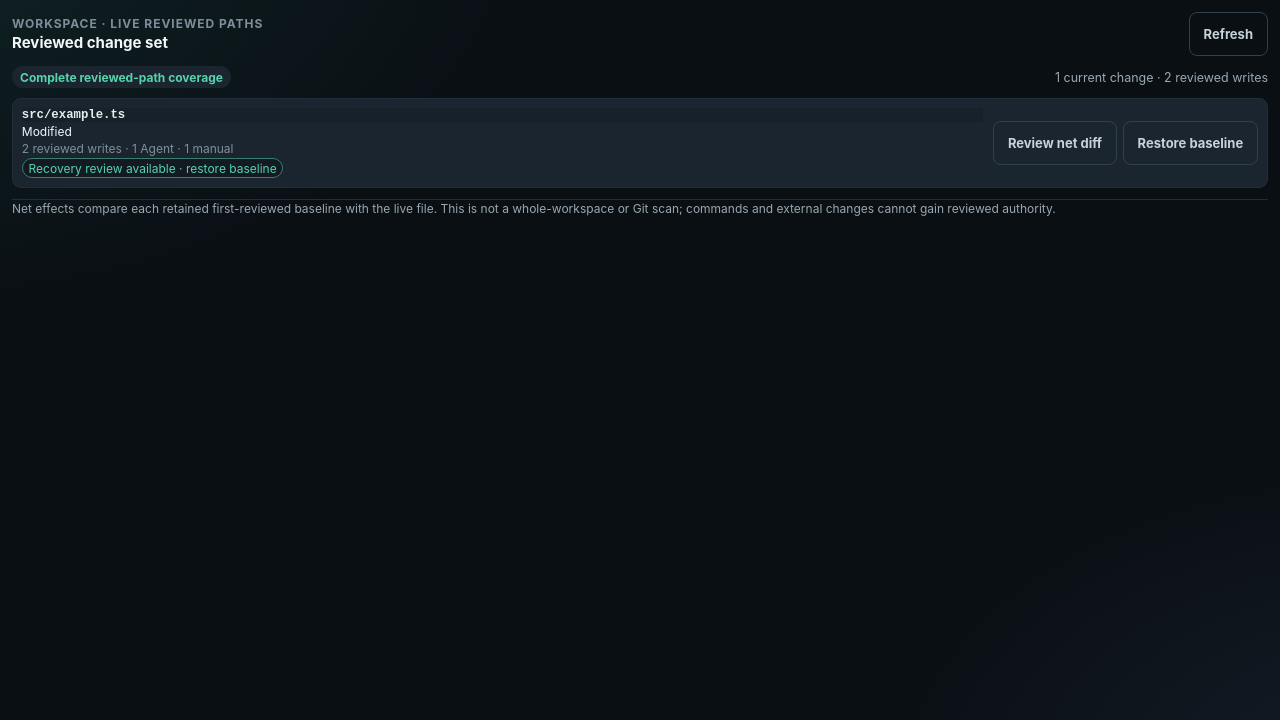
Test: AgentChangeSetPanel › previews, confirms, and reports an objectively verified exact baseline restore
The image size is (1280, 720).
Expected: the text "Modified" is shown, [22, 124, 72, 139]
Click the button "Restore baseline": (1190, 143) [1123, 121, 1258, 165]
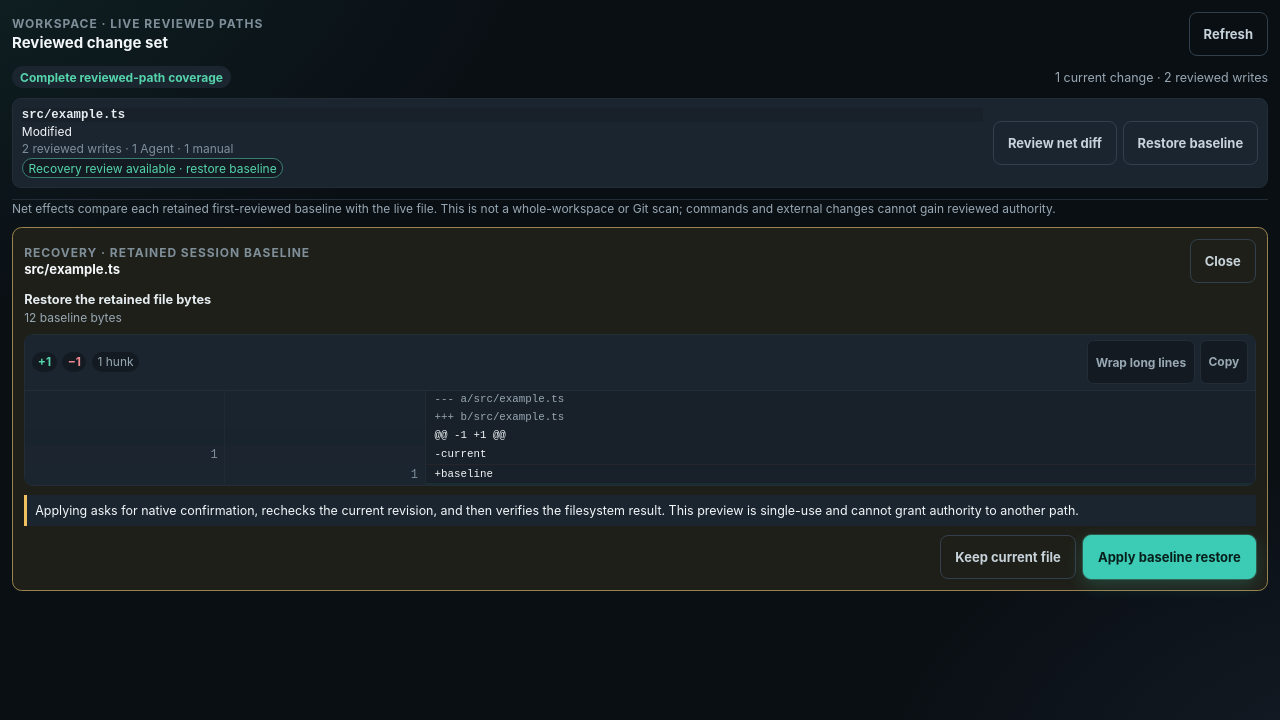
Now the element named "Baseline restore review" shows "Restore the retained file bytes", box [24, 292, 211, 307]
Now the element named "Baseline restore diff for src/example.ts" shows "+baseline", box [435, 468, 493, 480]
Click the button "Apply baseline restore": (1169, 557) [1083, 535, 1256, 579]
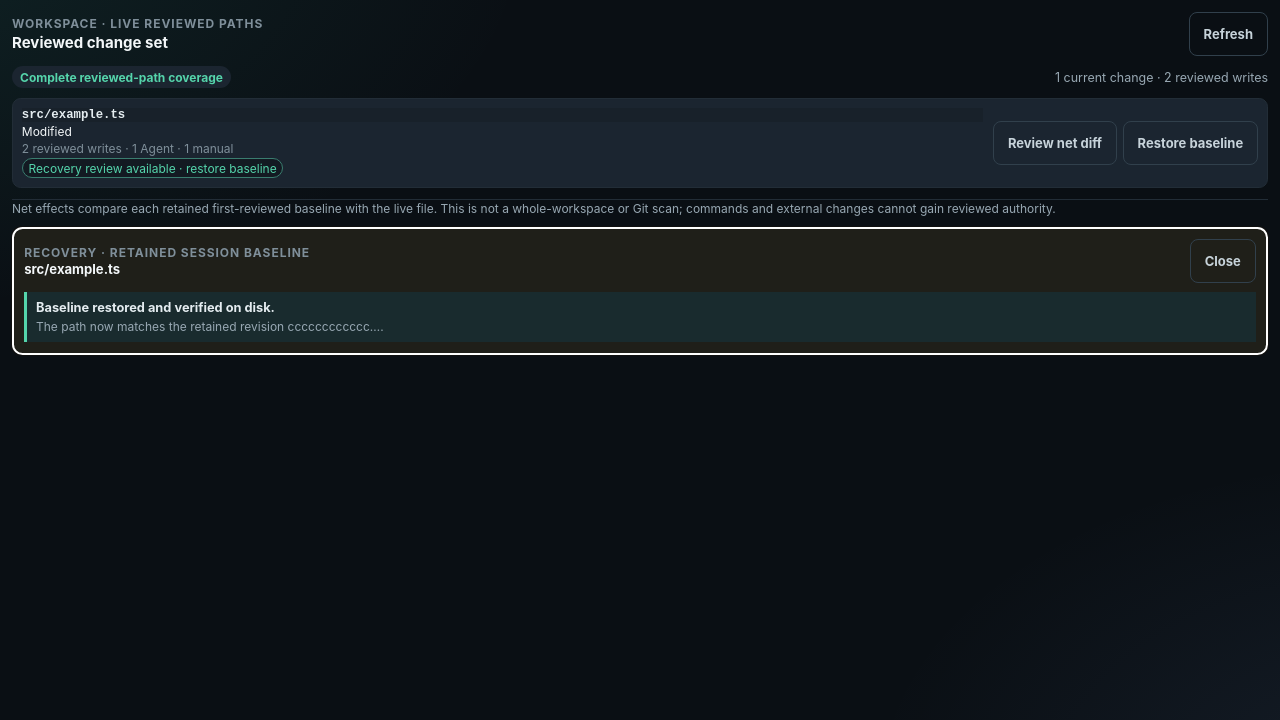
Now the text "Baseline restored and verified on disk." is shown, box [36, 300, 275, 315]
